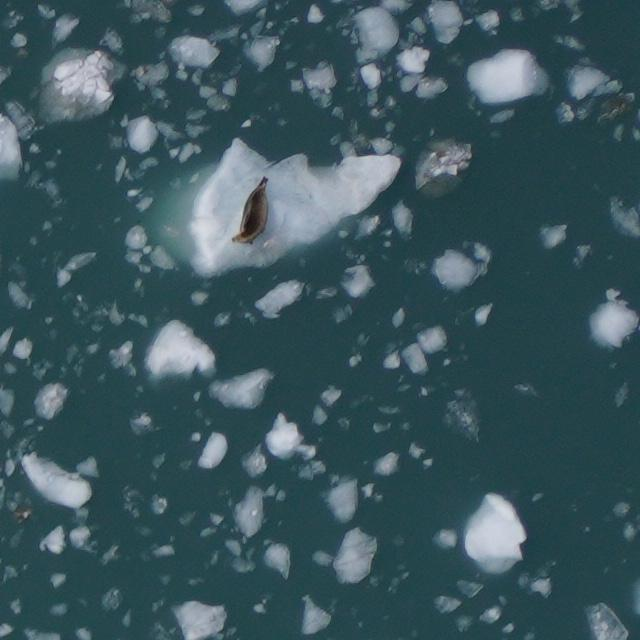seal: (231, 176, 267, 243)
